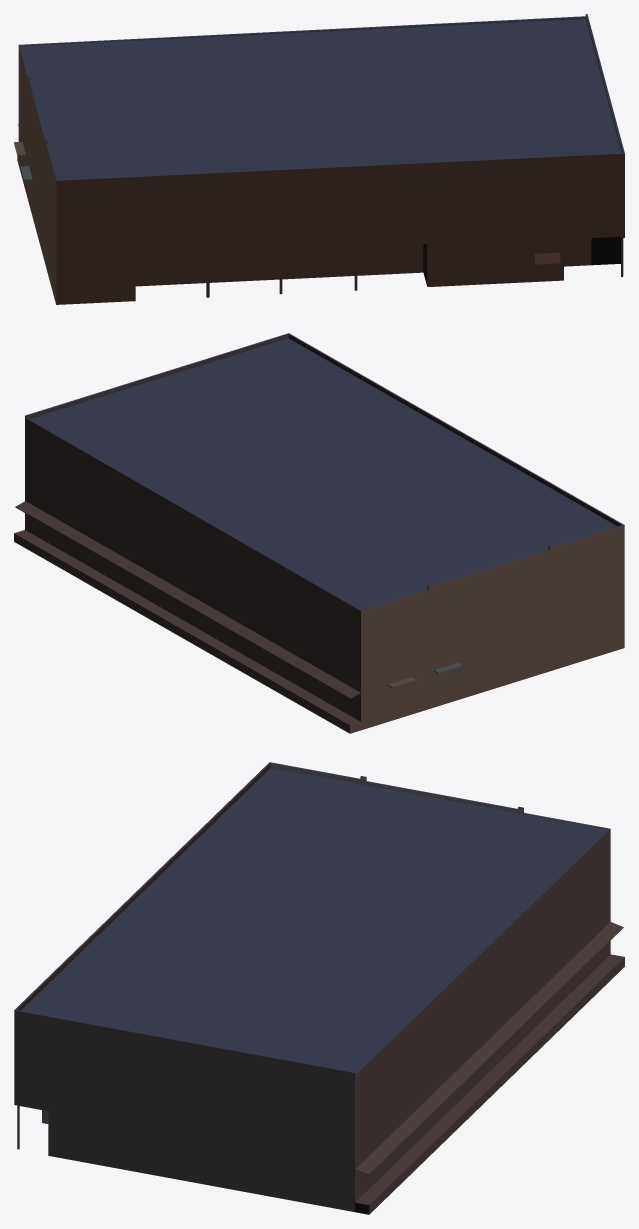
The model's file is 201-299-west-main-street.glb.
3 views of the same model, one above another, from view 1: azimuth 30°, elevation 25°; view 2: azimuth 150°, elevation 25°; view 3: azimuth 270°, elevation 25° (orthographic). The views are drawn at different scales.
Visible parts, largest first — view 1: LOD0; view 2: LOD0; view 3: LOD0.
Boxes of the visible parts, x1=… form: LOD0: x1=14, y1=14, x2=624, y2=304; LOD0: x1=14, y1=333, x2=624, y2=733; LOD0: x1=14, y1=762, x2=624, y2=1214.
Size of what is drawn, in the model's own units: 70.28 by 14.86 by 57.87.
1 material, 1 textured.
